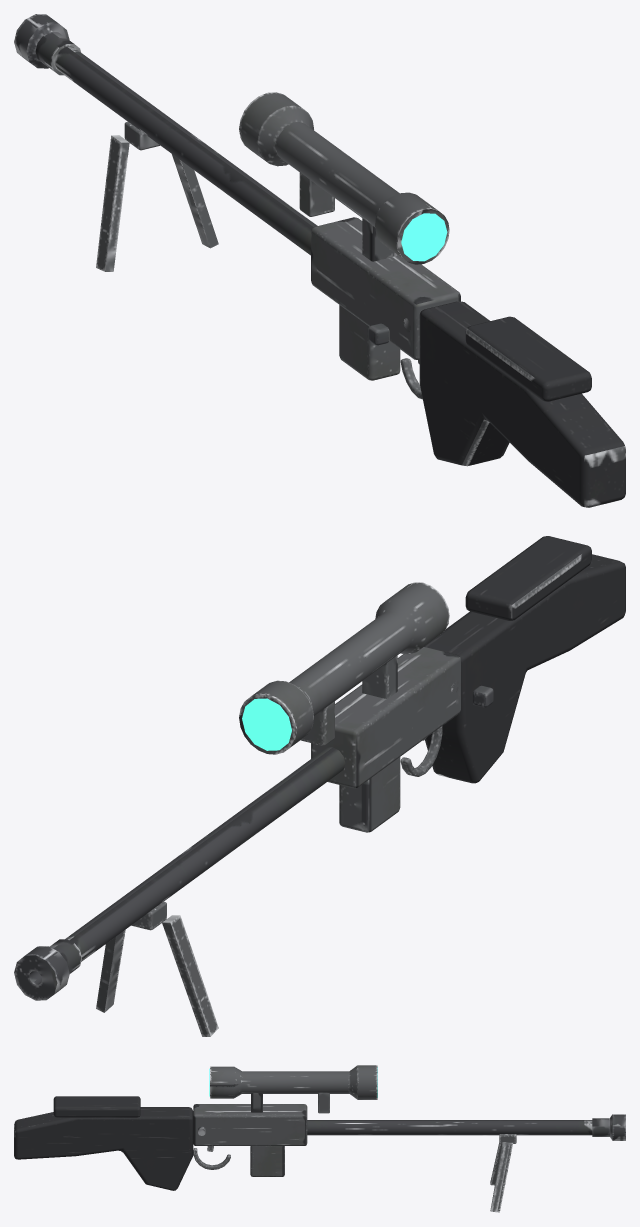
Rendered from sniper-rifle.glb.
The picture shows the model from 3 angles, top to bottom: view 1: azimuth 30°, elevation 25°; view 2: azimuth 150°, elevation 25°; view 3: azimuth 270°, elevation 25°; orthographic projection. The views are drawn at different scales.
Visible parts, largest first — view 1: Sniper_Stock, Sniper_Scope, Sniper_Receiver, Sniper_Barrel, Sniper_Cheek, Sniper_Magazine, Sniper_Leg_R, Sniper_Brake, Sniper, Sniper_Eyepiece, Sniper_Leg_L; view 2: Sniper_Stock, Sniper_Receiver, Sniper_Scope, Sniper_Barrel, Sniper_Cheek, Sniper_Magazine, Sniper_Brake, Sniper_Leg_R, Sniper_Objective, Sniper, Sniper_Leg_L, Sniper_Guard; view 3: Sniper_Stock, Sniper_Receiver, Sniper_Barrel, Sniper_Scope, Sniper_Cheek, Sniper_Magazine, Sniper_Leg_L, Sniper_Brake, Sniper, Sniper_Guard.
Boxes of the visible parts, <box> form: Sniper_Stock: <box>419,301,625,507</box>; Sniper_Scope: <box>239,92,449,264</box>; Sniper_Receiver: <box>311,217,460,359</box>; Sniper_Barrel: <box>54,46,317,255</box>; Sniper_Cheek: <box>465,316,591,401</box>; Sniper_Magazine: <box>339,305,400,380</box>; Sniper_Leg_R: <box>96,135,129,271</box>; Sniper_Brake: <box>14,14,80,75</box>; Sniper: <box>299,172,397,261</box>; Sniper_Eyepiece: <box>401,213,447,261</box>; Sniper_Leg_L: <box>172,154,218,248</box>; Sniper_Stock: <box>424,554,625,783</box>; Sniper_Receiver: <box>311,647,460,788</box>; Sniper_Scope: <box>239,582,449,754</box>; Sniper_Barrel: <box>65,747,345,961</box>; Sniper_Cheek: <box>465,536,591,620</box>; Sniper_Magazine: <box>339,757,400,832</box>; Sniper_Brake: <box>14,939,81,1000</box>; Sniper_Leg_R: <box>162,915,218,1036</box>; Sniper_Objective: <box>242,698,291,750</box>; Sniper: <box>301,655,397,745</box>; Sniper_Leg_L: <box>96,930,125,1012</box>; Sniper_Guard: <box>400,726,442,776</box>; Sniper_Stock: <box>14,1107,193,1190</box>; Sniper_Receiver: <box>193,1104,307,1145</box>; Sniper_Barrel: <box>307,1120,592,1135</box>; Sniper_Scope: <box>210,1065,377,1099</box>; Sniper_Cheek: <box>53,1096,140,1117</box>; Sniper_Magazine: <box>250,1146,284,1176</box>; Sniper_Leg_L: <box>490,1142,513,1212</box>; Sniper_Brake: <box>592,1114,625,1140</box>; Sniper: <box>251,1093,329,1113</box>; Sniper_Guard: <box>193,1148,230,1169</box>.
Size of the model in its own units: 0.1079 by 0.2174 by 0.912.
2 materials, 1 textured.
